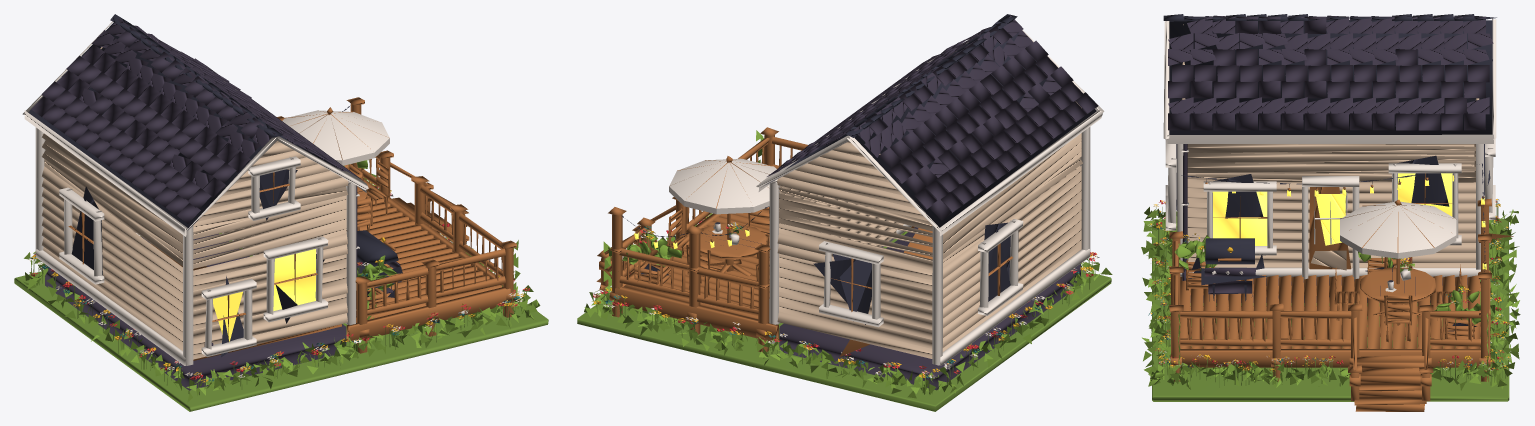
Rendered from bld.house-c.lod1.glb.
3 views of the same model, side by side, from view 1: azimuth 30°, elevation 25°; view 2: azimuth 150°, elevation 25°; view 3: azimuth 270°, elevation 25° (orthographic).
Visible parts, largest first — view 1: roof, object 7, object 10, object 5, object 4, object 3, object 1, object 9, object 31, door_grill_lid, object 6, object 8; view 2: object 7, roof, object 10, object 5, object 4, object 3, object 1, object 9, object 6, object 8, interior; view 3: roof, object 10, object 7, object 5, object 4, object 3, object 9, door_back, object 31, object 1, door_grill_lid, object 6 (+1 smaller).
Boxes of the visible parts, x1=… form: roof: x1=22, y1=14, x2=368, y2=236; object 7: x1=42, y1=47, x2=348, y2=359; object 10: x1=68, y1=97, x2=516, y2=353; object 5: x1=29, y1=110, x2=522, y2=377; object 4: x1=14, y1=164, x2=548, y2=411; object 3: x1=23, y1=159, x2=540, y2=402; object 1: x1=45, y1=185, x2=400, y2=390; object 9: x1=71, y1=105, x2=402, y2=357; object 31: x1=213, y1=249, x2=315, y2=341; door_grill_lid: x1=357, y1=230, x2=398, y2=266; object 6: x1=31, y1=177, x2=526, y2=382; object 8: x1=31, y1=184, x2=529, y2=379; object 7: x1=777, y1=101, x2=1082, y2=358; roof: x1=756, y1=14, x2=1104, y2=236; object 10: x1=596, y1=127, x2=1012, y2=352; object 5: x1=593, y1=127, x2=1099, y2=378; object 4: x1=577, y1=216, x2=1111, y2=411; object 3: x1=584, y1=130, x2=1112, y2=398; object 1: x1=727, y1=227, x2=1080, y2=389; object 9: x1=621, y1=206, x2=1010, y2=324; object 6: x1=593, y1=215, x2=1097, y2=377; object 8: x1=593, y1=218, x2=1096, y2=374; interior: x1=839, y1=228, x2=932, y2=357; roof: x1=1163, y1=14, x2=1496, y2=143; object 10: x1=1169, y1=173, x2=1491, y2=411; object 7: x1=1182, y1=24, x2=1479, y2=267; object 5: x1=1147, y1=139, x2=1511, y2=370; object 4: x1=1151, y1=201, x2=1509, y2=401; object 3: x1=1141, y1=207, x2=1520, y2=390; object 9: x1=1176, y1=144, x2=1490, y2=331; door_back: x1=1309, y1=187, x2=1351, y2=270; object 31: x1=1212, y1=173, x2=1452, y2=245; object 1: x1=1182, y1=144, x2=1467, y2=302; door_grill_lid: x1=1205, y1=238, x2=1254, y2=264; object 6: x1=1150, y1=199, x2=1509, y2=371.
Bounding box in the file's own units: 9.41 × 5.77 × 7.76.
